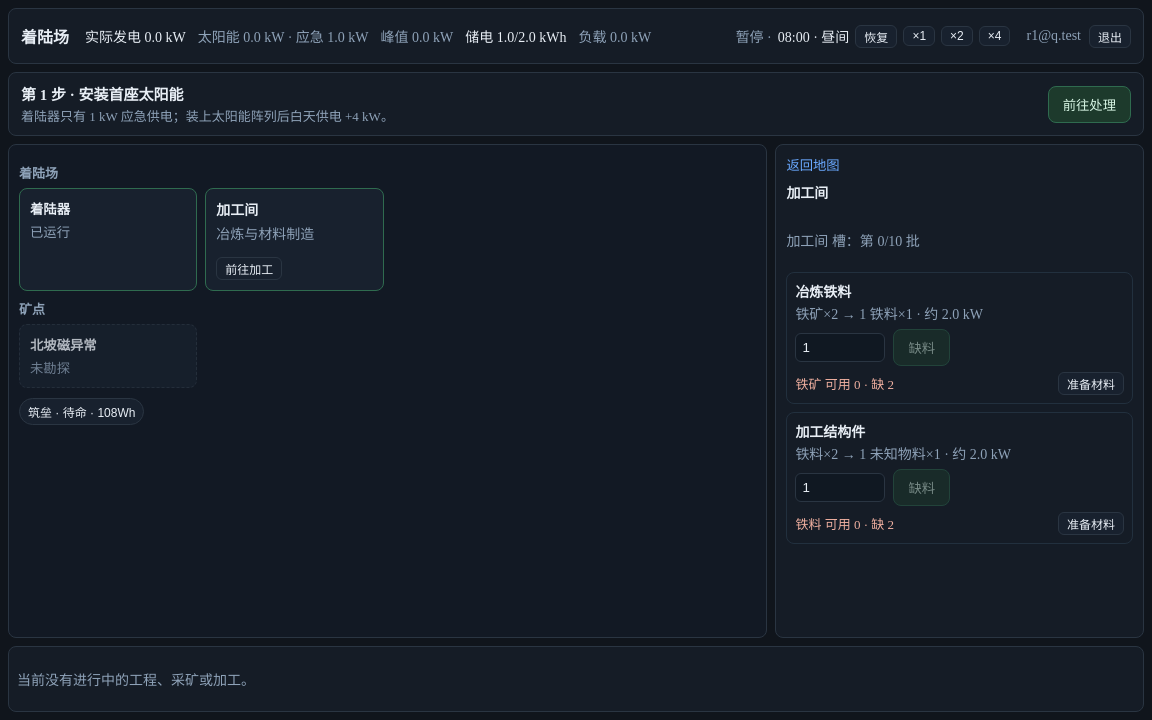
Test: LandingShell > design-review B 线 › D015：配方行缺料就地显示可用/缺 N，准备材料展开获取路径（复用项目级组件）
The image size is (1152, 720).
Check: the text "冶炼铁料" shows "缺料", box [893,329,950,366]
Check: the text "冶炼铁料" shows "铁矿 可用 0 · 缺 2", box [786,272,1133,404]
Click the button "准备材料" below "铁矿×2" at (1091, 384), box [1058,372,1124,395]
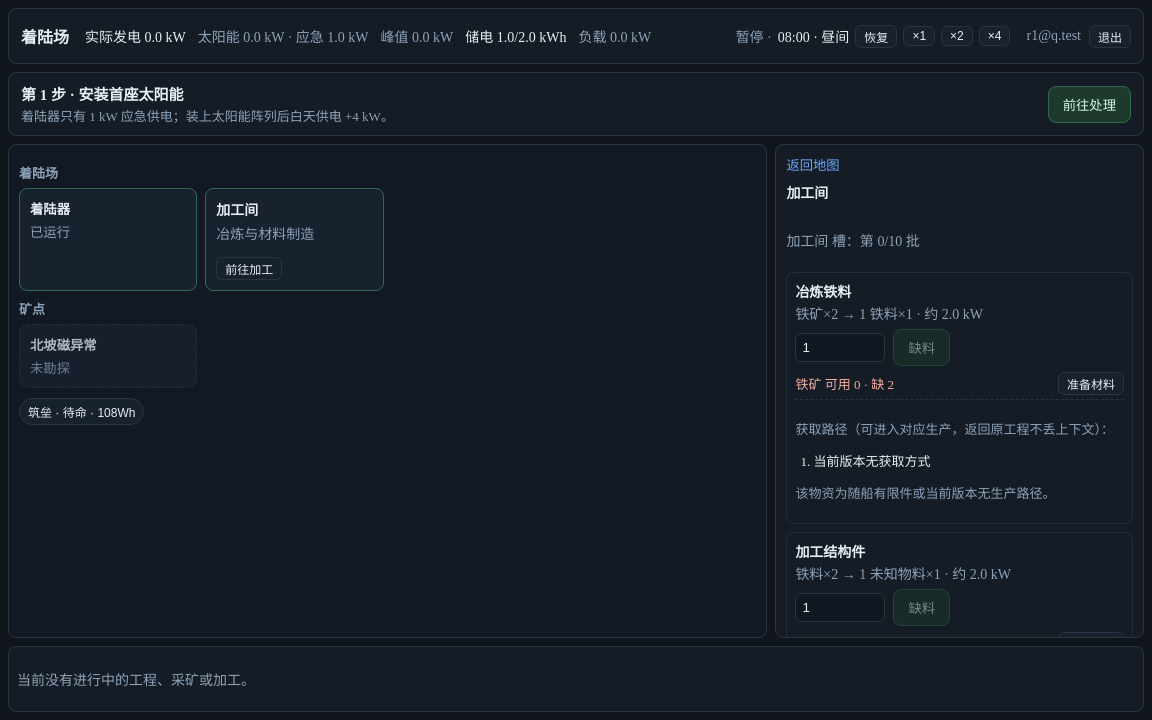
Check: the text "获取路径（可进入对应生产，返回原工程不丢上下文）：" is shown, box [795,419,1124,438]
